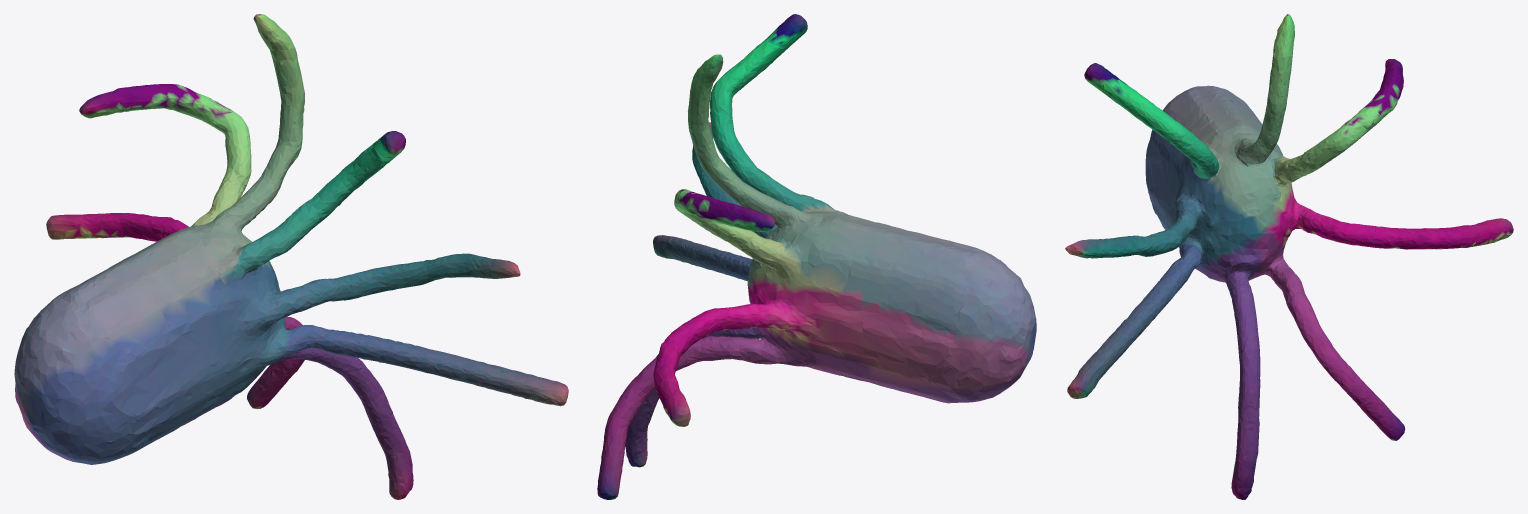
File: octopus-7.off.obj
The picture shows the model from 3 angles, left to right: view 1: azimuth 30°, elevation 25°; view 2: azimuth 150°, elevation 25°; view 3: azimuth 270°, elevation 25°; orthographic projection. The views are drawn at different scales.
Size of the model in its own units: 1.42 by 1.4 by 1.31.
